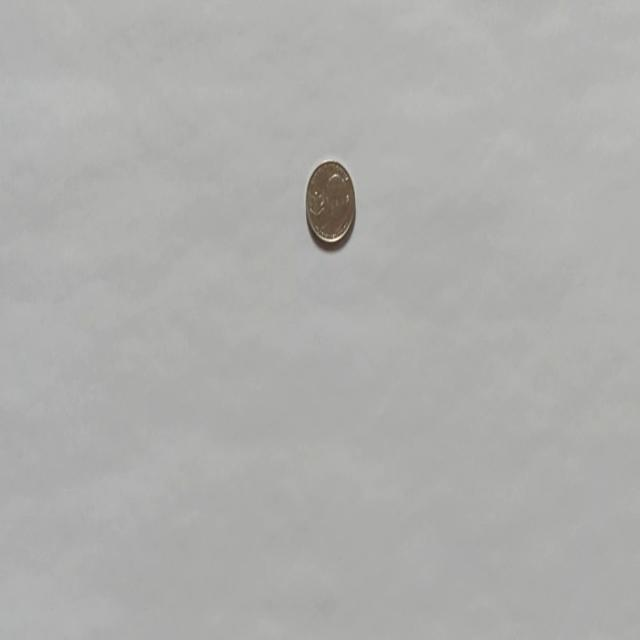seribu rupiah koin: (304, 158, 356, 246)
